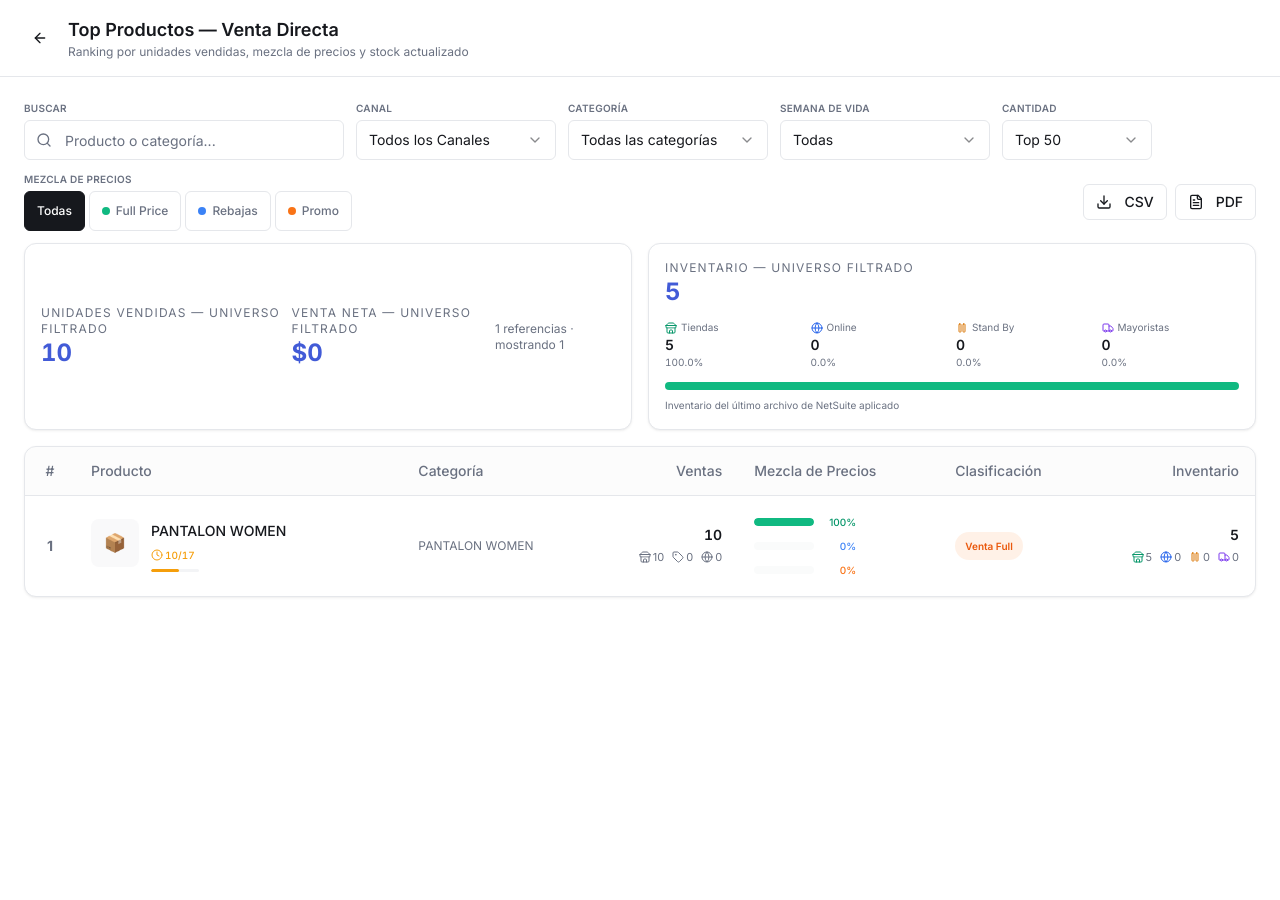
Desempeño de Productos — Ver detalle por tienda › disables the button and shows 'Cargando…' while the catalog is looked up
This screenshot has width=1280, height=900.
Later steps or results of the test are not shown.
Click the row that starts with "PANTALON WOMEN". click: (115,543)
box: [25,495,1255,596]
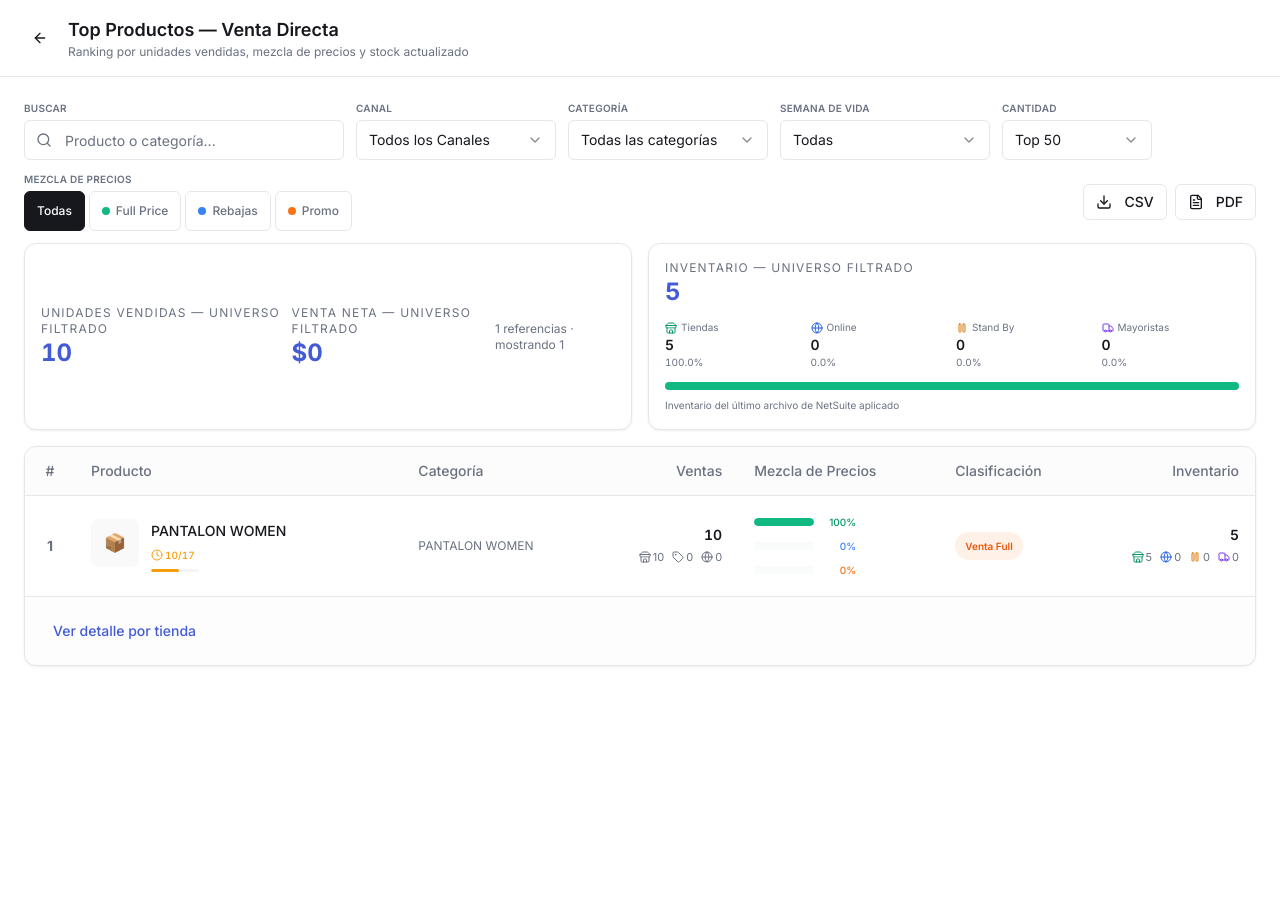
Click the button "Ver detalle por tienda". click: (124,630)
box: [41,612,208,648]
expect the button "Ver detalle por tienda" is shown: met, box [41,612,208,648]
expect the button "Ver detalle por tienda" is enabled: met, box [41,612,208,648]
